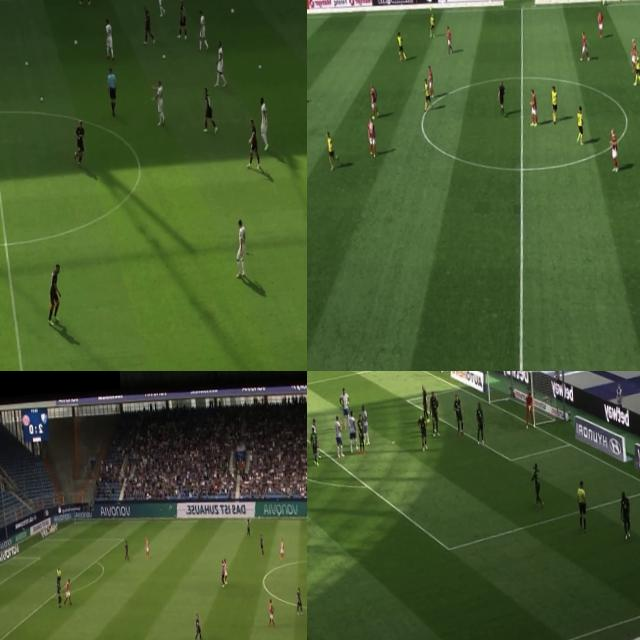ball: (24, 59, 29, 68), (258, 62, 262, 68), (162, 52, 166, 58), (74, 38, 78, 44), (39, 94, 43, 100), (0, 577, 2, 586), (230, 6, 233, 10)
player: (45, 265, 63, 328), (231, 220, 249, 278), (243, 115, 260, 171), (199, 86, 216, 131), (619, 488, 633, 541), (212, 40, 227, 88), (72, 120, 87, 165), (258, 96, 270, 152), (522, 388, 536, 432), (152, 78, 165, 125), (608, 126, 621, 170), (338, 382, 351, 424), (473, 401, 486, 443), (174, 0, 187, 40), (574, 104, 586, 146), (308, 415, 320, 457), (532, 464, 544, 505), (428, 392, 439, 436), (326, 128, 338, 168), (196, 10, 208, 49), (141, 6, 153, 44), (308, 426, 320, 464), (365, 117, 377, 154), (454, 393, 464, 435), (103, 20, 114, 58), (528, 90, 540, 124), (332, 412, 342, 450), (360, 400, 370, 438), (550, 84, 559, 125), (347, 411, 356, 452), (418, 410, 427, 450), (420, 382, 429, 420), (426, 66, 436, 98), (444, 23, 454, 54), (580, 30, 590, 61), (277, 534, 288, 562), (631, 52, 640, 86), (356, 414, 364, 452), (370, 82, 378, 118), (427, 8, 437, 36), (192, 612, 202, 640), (630, 36, 638, 68), (422, 80, 430, 110), (294, 584, 302, 614), (243, 514, 253, 538), (257, 532, 267, 555), (596, 8, 604, 36), (268, 597, 276, 625), (221, 556, 229, 582), (123, 538, 131, 564), (400, 25, 406, 59), (64, 580, 72, 604), (156, 0, 165, 18), (142, 535, 150, 555), (218, 560, 224, 586), (56, 583, 63, 605)
